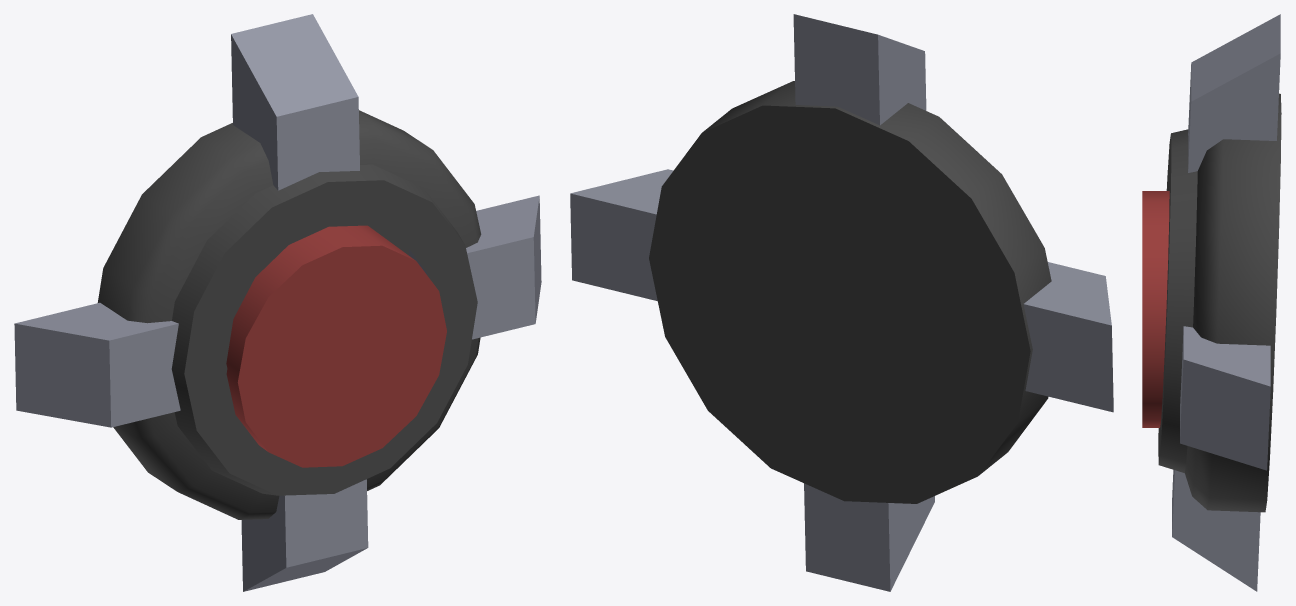
The model's file is button2.fbx.
The picture shows the model from 3 angles, left to right: view 1: azimuth 30°, elevation 25°; view 2: azimuth 150°, elevation 25°; view 3: azimuth 270°, elevation 25°; orthographic projection. The views are drawn at different scales.
Parts seen in each view (by area): view 1: Landmine, Button; view 2: Landmine; view 3: Landmine, Button.
Boxes of the visible parts, left/top/right/bottom form: Landmine: left=14, top=14, right=541, bottom=591; Button: left=226, top=225, right=446, bottom=467; Landmine: left=570, top=14, right=1113, bottom=591; Landmine: left=1158, top=14, right=1281, bottom=591; Button: left=1142, top=191, right=1169, bottom=427.
Size of the model in its own units: 111 by 111 by 26.05.
